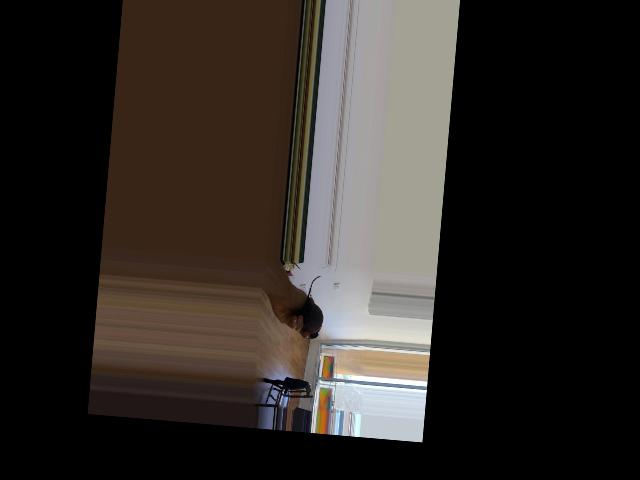beet: (299, 275, 326, 340)
